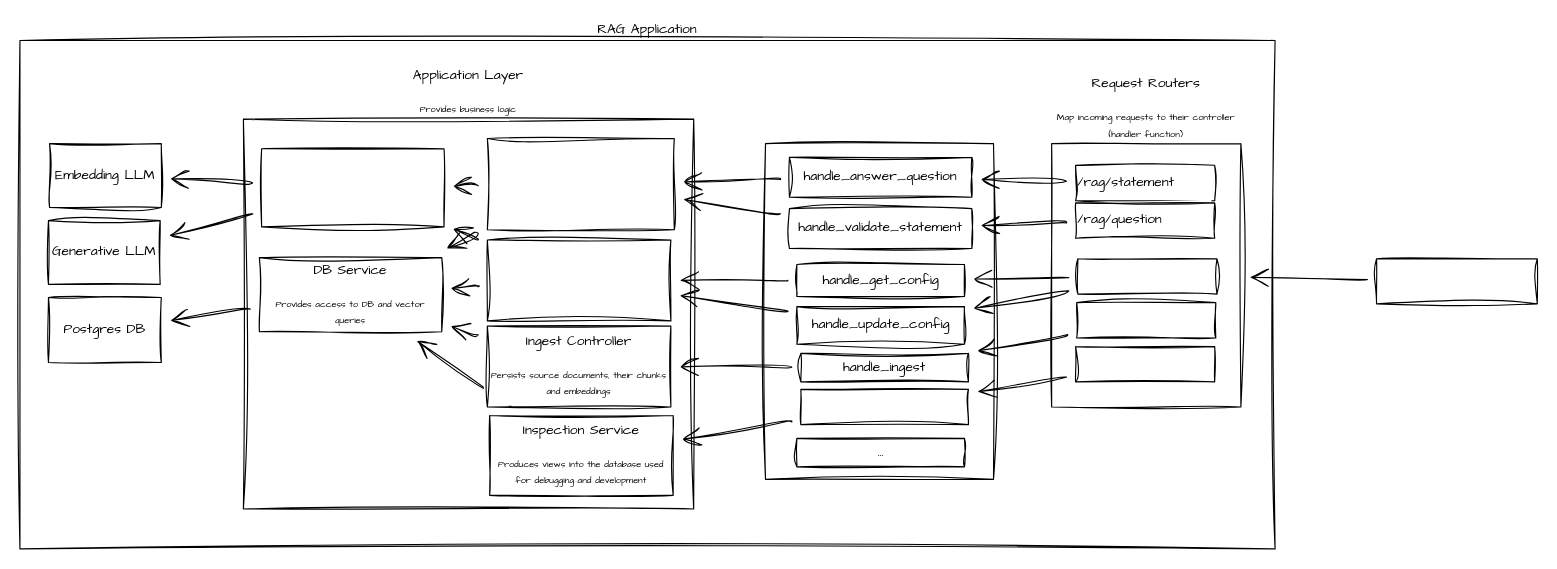
Some shapes in this 1557 by 569 pixel diagram are drawn without their labels. The box of each missing label's shape, as (x1, y1, x2, y2) in pixels:
/admin/config: (1077, 258, 1217, 294)
/admin/ingest: (1076, 302, 1216, 338)
/admin/inspect: (1074, 345, 1215, 382)
ASGI Gateway: (1375, 258, 1537, 304)
Config Service Allows configuration of system components: (486, 239, 671, 321)
Controllers Validate and parse requests and invoke service layer functions: (764, 142, 994, 479)
handle_inspect: (800, 388, 968, 425)
LLM Service Provides access to embedding and generative LLM: (260, 148, 444, 227)
RAG Service Answers questions and validates statements using RAG: (486, 137, 674, 230)
